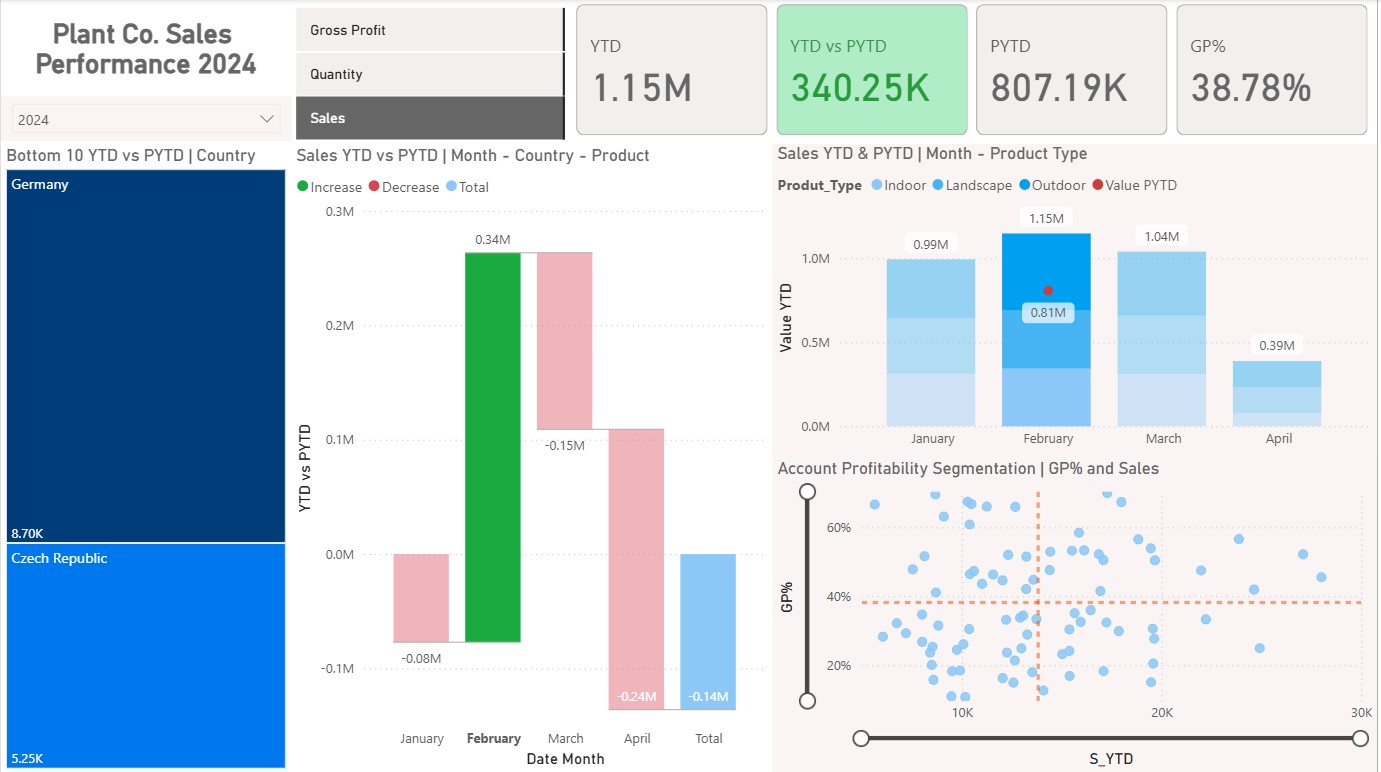

What the dashboard file says about the page in this screenshot:
{"tool":"powerbi","page":{"name":"Page 1","canvas":[1280,720],"ordinal":0},"visuals":[{"type":"shape","box":[0,0,1280,132.5],"z":0},{"type":"cardVisual","fields":{"Data":["_Mesures.S_YTD","_Mesures.YTD vs PYTD","_Mesures.S_PYTD","_Mesures.GP%"]},"box":[530,0,748.8,132.5],"z":1000},{"type":"advancedSlicerVisual","fields":{"Values":["Slc_Values.Values"]},"box":[270,3.8,260,132.5],"z":2000},{"type":"slicer","fields":{"Values":["Dim_Date.Date.Variation.Date Hierarchy.Year"]},"box":[0,87.5,270,45],"z":3000},{"type":"treemap","title":"Bottom 10 YTD vs PYTD | Country","fields":{"Values":["_Mesures.YTD vs PYTD"],"Group":["Dim_Accounts.country"]},"box":[0,136.2,270,585],"z":4000},{"type":"waterfallChart","fields":{"Y":["_Mesures.YTD vs PYTD"],"Category":["Dim_Date.Date.Variation.Date Hierarchy.Month","Dim_Accounts.country","Dim_Product.Produt_Type","Dim_Product.Product_Name_id"]},"box":[270,136.2,447.5,583.8],"z":5000},{"type":"lineStackedColumnComboChart","fields":{"Category":["Dim_Date.Date.Variation.Date Hierarchy.Quarter","Dim_Date.Date.Variation.Date Hierarchy.Month"],"Y":["_Mesures.S_YTD"],"Y2":["_Mesures.S_PYTD"],"Series":["Dim_Product.Produt_Type"]},"box":[717.5,135,562.5,292.5],"z":6000},{"type":"scatterChart","fields":{"Y":["_Mesures.GP%"],"X":["_Mesures.S_YTD"],"Category":["Dim_Accounts.Account"]},"box":[717.5,427.5,562.5,291.2],"z":7000},{"type":"card","fields":{"Values":["_Mesures._Report title"]},"box":[0,0,270,90],"z":8000}]}

Visuals, with their boxes in screenshot pixels (x1, y1, x2, y2), scaled from the page's 1280x720 canvas onto the 1381x772 screenshot:
shape: x1=0, y1=0, x2=1380, y2=142
cardVisual - _Mesures.S_YTD x _Mesures.YTD vs PYTD: x1=572, y1=0, x2=1380, y2=142
advancedSlicerVisual - Slc_Values.Values: x1=291, y1=4, x2=572, y2=146
slicer - Dim_Date.Date.Variation.Date Hierarchy.Year: x1=0, y1=94, x2=291, y2=142
"Bottom 10 YTD vs PYTD | Country" treemap: x1=0, y1=146, x2=291, y2=771
waterfallChart - _Mesures.YTD vs PYTD x Dim_Date.Date.Variation.Date Hierarchy.Month: x1=291, y1=146, x2=774, y2=771
lineStackedColumnComboChart - Dim_Date.Date.Variation.Date Hierarchy.Quarter x Dim_Date.Date.Variation.Date Hierarchy.Month: x1=774, y1=145, x2=1380, y2=458
scatterChart - _Mesures.GP% x _Mesures.S_YTD: x1=774, y1=458, x2=1380, y2=771
card - _Mesures._Report title: x1=0, y1=0, x2=291, y2=96
